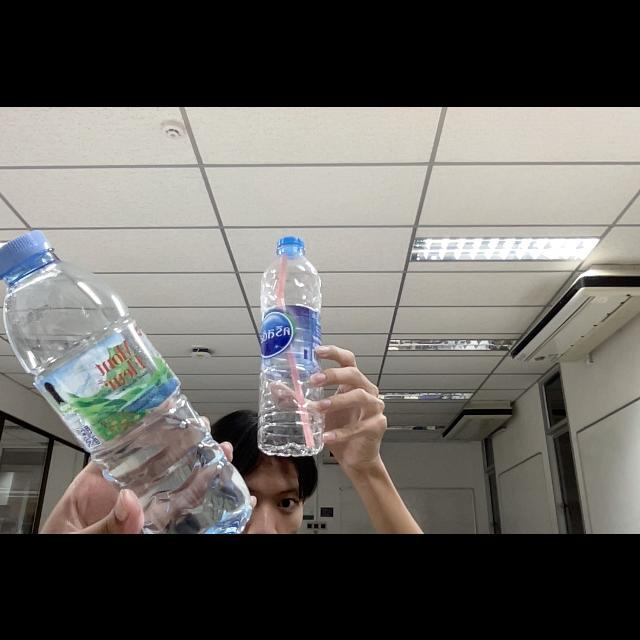plastic_bottle: (1, 219, 253, 533), (254, 226, 334, 470)
plastic_bottle_cap: (1, 228, 46, 276), (276, 232, 304, 255)
straw: (275, 254, 317, 448)
